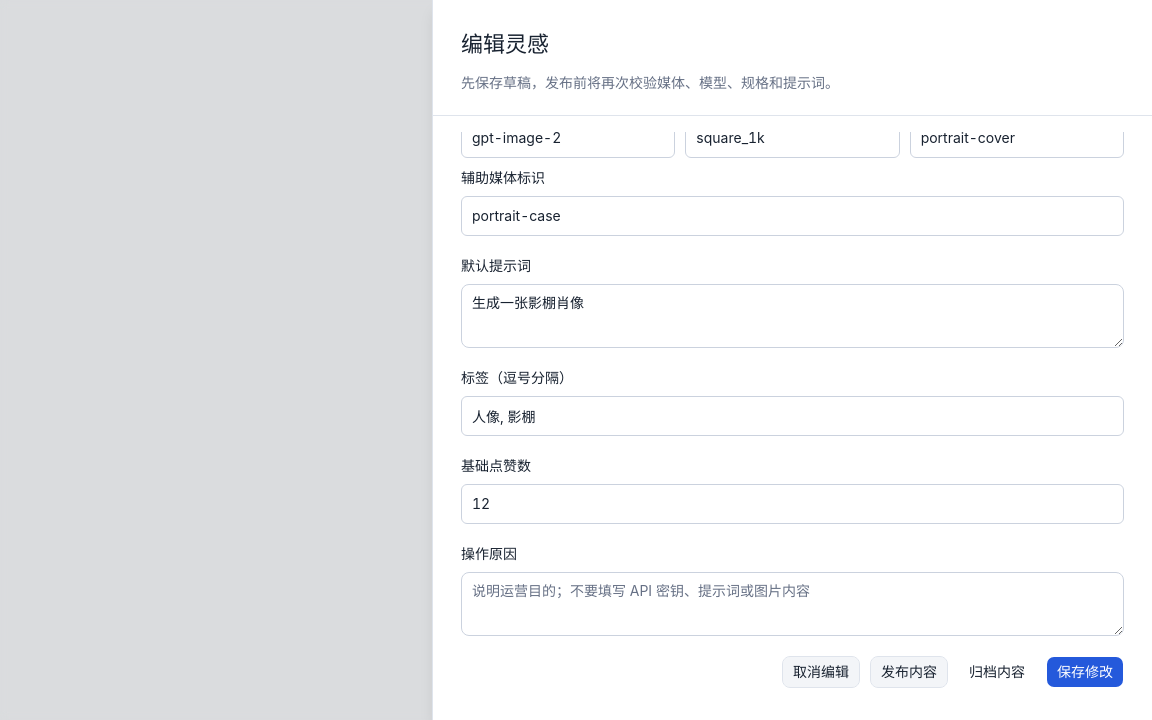
rejects sensitive material in audit reasons before issuing a request
This screenshot has width=1152, height=720.
(page scrolled)
Type "prompt: copy customer image d ata:image/png;base64,AAAA" into the text box labelled "操作原因" at (792, 604), box [461,572,1124,636]
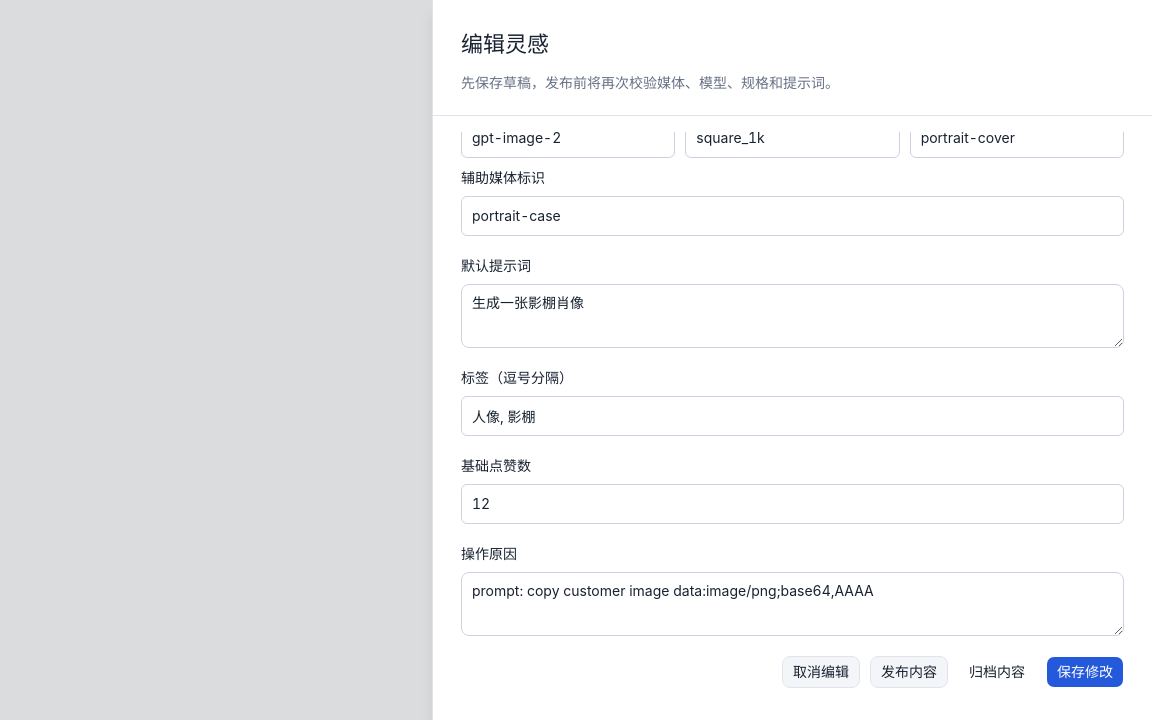
Click the button "保存修改" at (1085, 672), box [1046,656,1124,688]
(page scrolled)
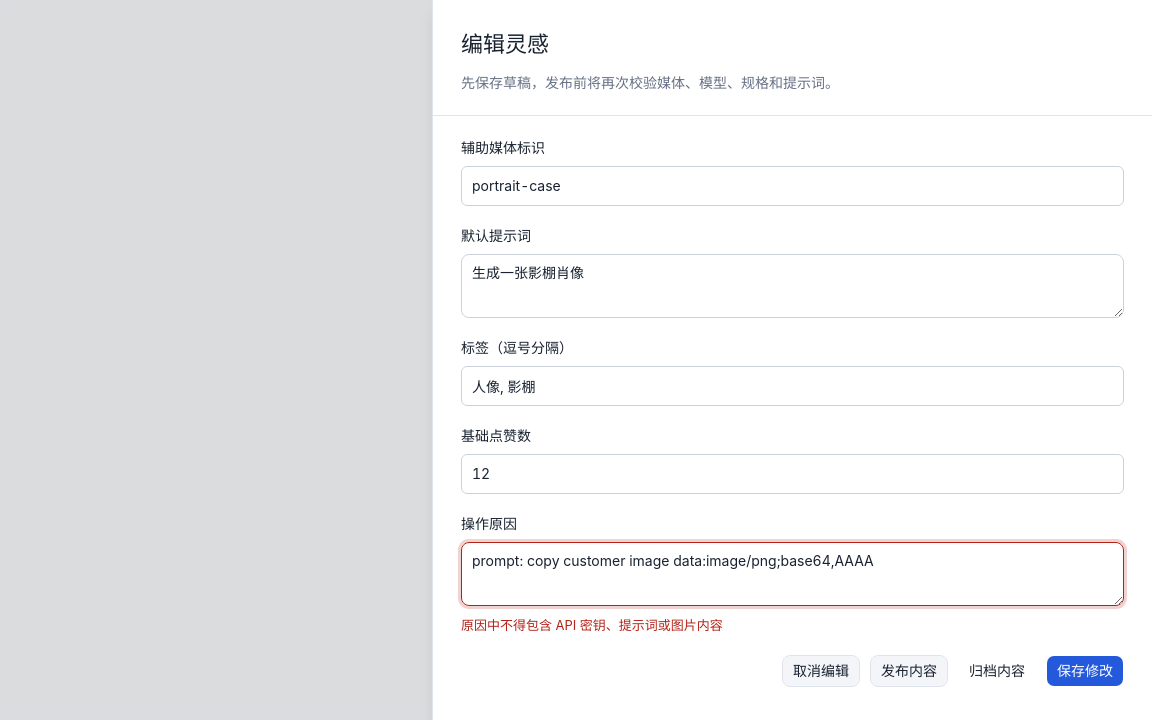
Check: the text "原因中不得包含 API 密钥、提示词或图片内容" is shown, box [461,617,723,633]
